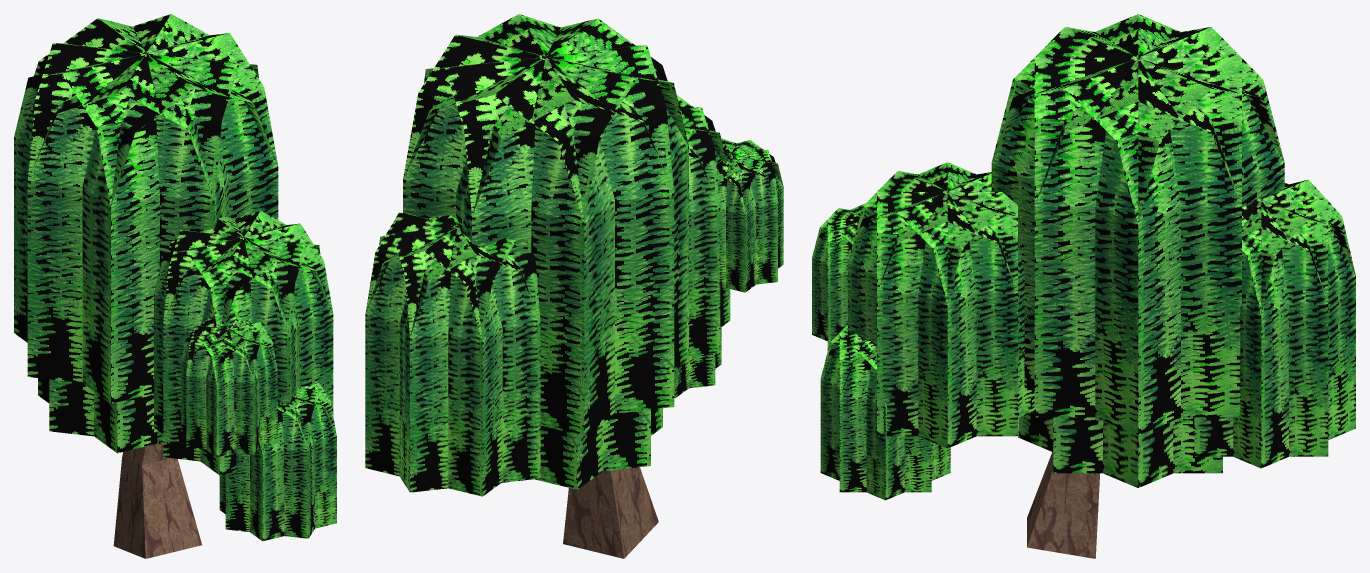
Rendered from treeB.fbx.
3 views of the same model, side by side, from view 1: azimuth 30°, elevation 25°; view 2: azimuth 150°, elevation 25°; view 3: azimuth 270°, elevation 25° (orthographic). The views are drawn at different scales.
Parts seen in each view (by area): view 1: Branch 2; view 2: Branch 2; view 3: Branch 2.
Part boxes in pixels (<box>): Branch 2: <box>14,14,336,558</box>; Branch 2: <box>365,14,783,558</box>; Branch 2: <box>812,14,1355,558</box>.
Bounding box in the file's own units: 641 × 1203 × 1188.
Materials: 25 (25 with a texture image).
